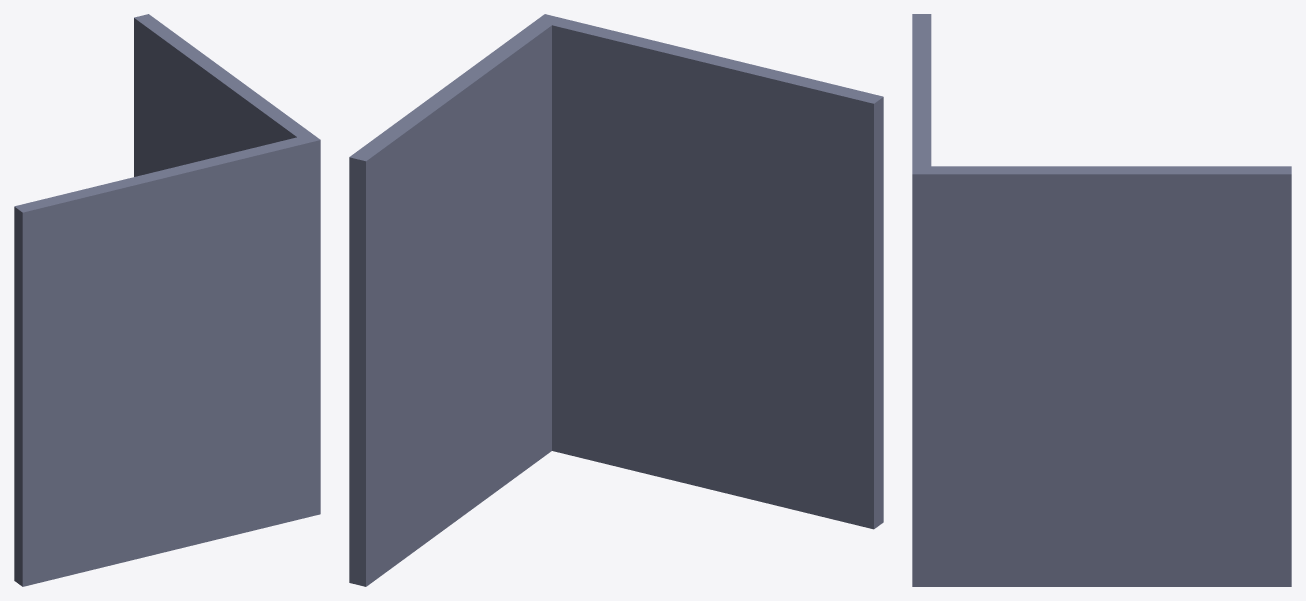
Rendered from wall-corner.obj.
The picture shows the model from 3 angles, left to right: view 1: azimuth 30°, elevation 25°; view 2: azimuth 150°, elevation 25°; view 3: azimuth 270°, elevation 25°; orthographic projection. The views are drawn at different scales.
Bounding box in the file's own units: 2 × 2.4 × 2.
